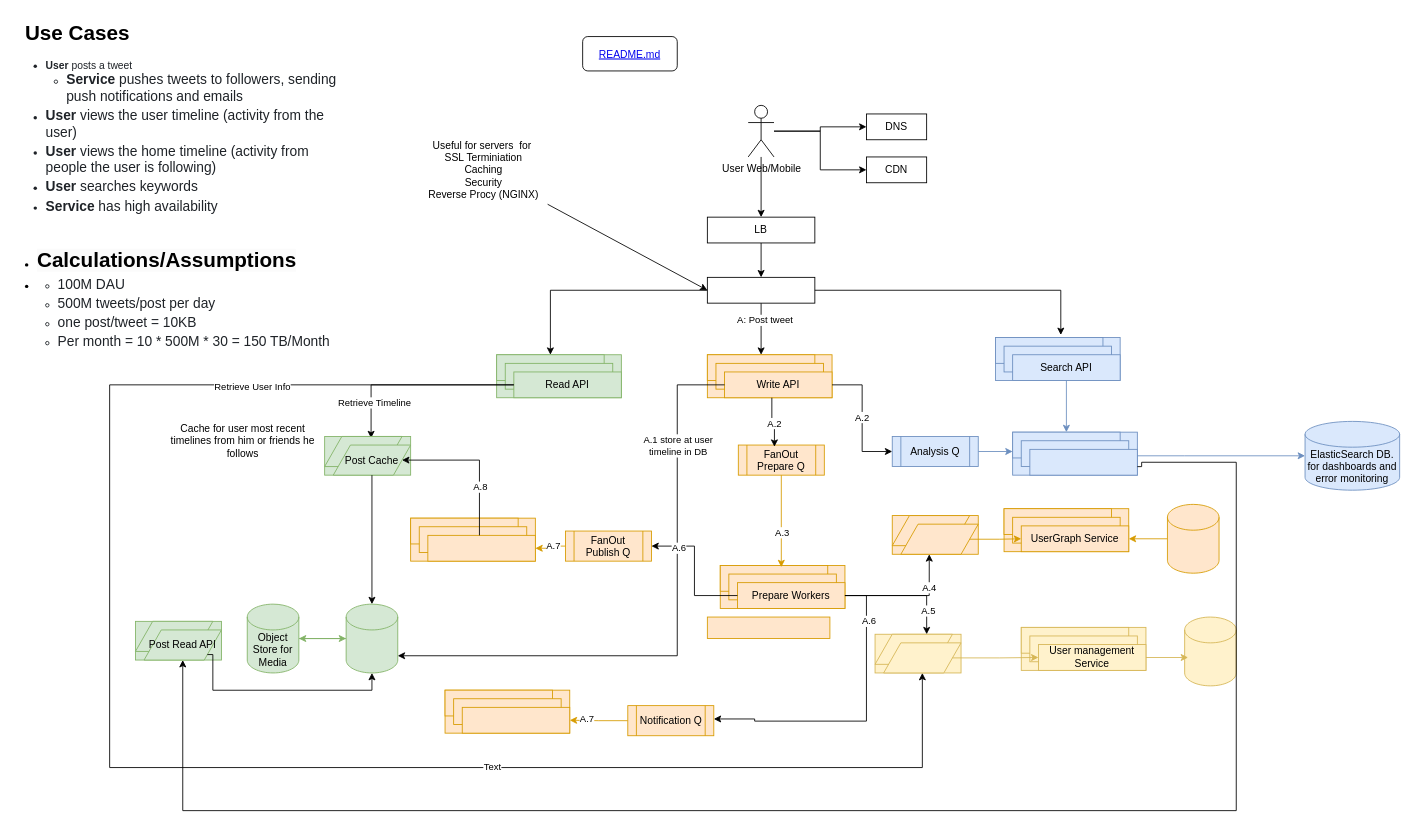
This 1415x832 diagram has some shape labels left out. Here are the shapes that lost their labels. From the top down, the centre of each, then its label:
(x=760, y=289): WebServer
(x=1083, y=461): Reverse Index Service (ExLucene)
(x=481, y=547): Publish Worker
(x=939, y=538): FriendList Cache
(x=1193, y=538): Graph DB
(x=371, y=638): Posts DB (SQL)
(x=768, y=627): Prepare and filter muted friends, ..etc
(x=922, y=657): User Cache
(x=1210, y=651): UserDB
(x=515, y=719): Notification Service
